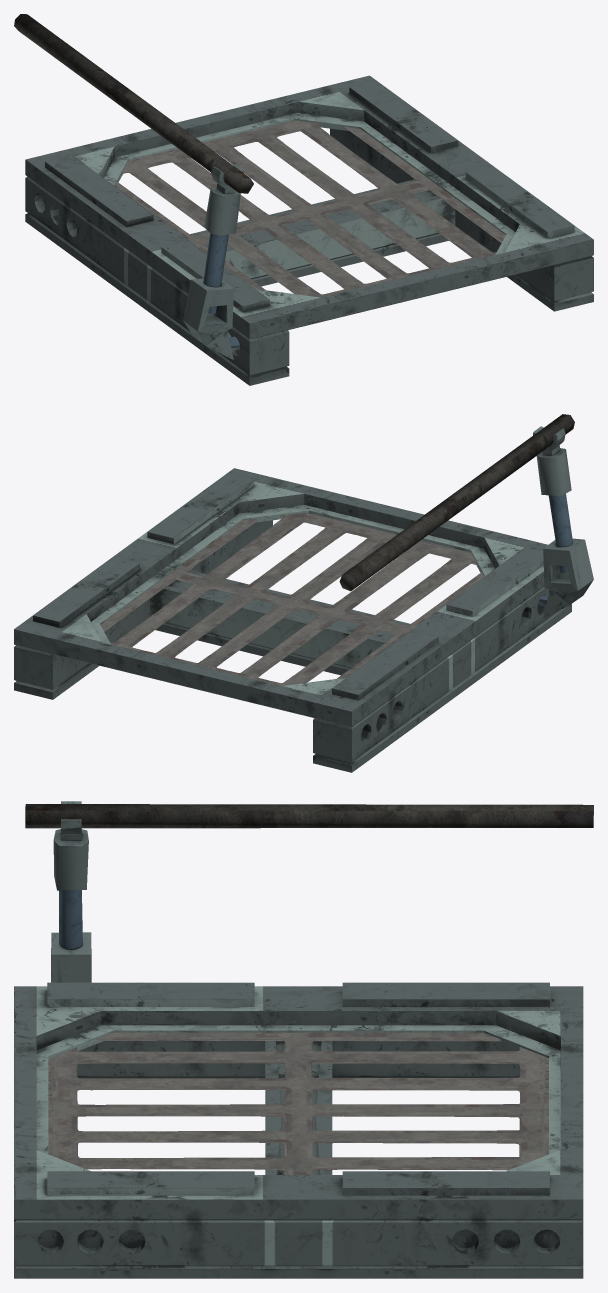
File: Lv1_CargoBay_RunWay2.fbx
3 renders of one model, top to bottom at view 1: azimuth 30°, elevation 25°; view 2: azimuth 150°, elevation 25°; view 3: azimuth 270°, elevation 25°, orthographic. The views are drawn at different scales.
Parts seen in each view (by area): view 1: RunWay, Grid, Support, Bar, Grid.001; view 2: RunWay, Grid, Support, Bar, Grid.001; view 3: RunWay, Grid, Bar, Support, Grid.001.
Boxes of the visible parts, bbox=[...] form: RunWay: bbox=[25, 75, 593, 385]; Grid: bbox=[115, 120, 505, 297]; Support: bbox=[183, 164, 243, 359]; Bar: bbox=[14, 14, 253, 193]; Grid.001: bbox=[122, 124, 502, 294]; RunWay: bbox=[14, 468, 571, 772]; Grid: bbox=[100, 512, 484, 685]; Support: bbox=[533, 426, 593, 618]; Bar: bbox=[339, 414, 574, 591]; Grid.001: bbox=[112, 513, 477, 682]; RunWay: bbox=[14, 982, 583, 1278]; Grid: bbox=[50, 1032, 548, 1174]; Bar: bbox=[25, 804, 593, 828]; Support: bbox=[51, 801, 91, 982]; Grid.001: bbox=[48, 1039, 546, 1174].
Bounding box in the file's own units: 2273 × 1167 × 2358.
